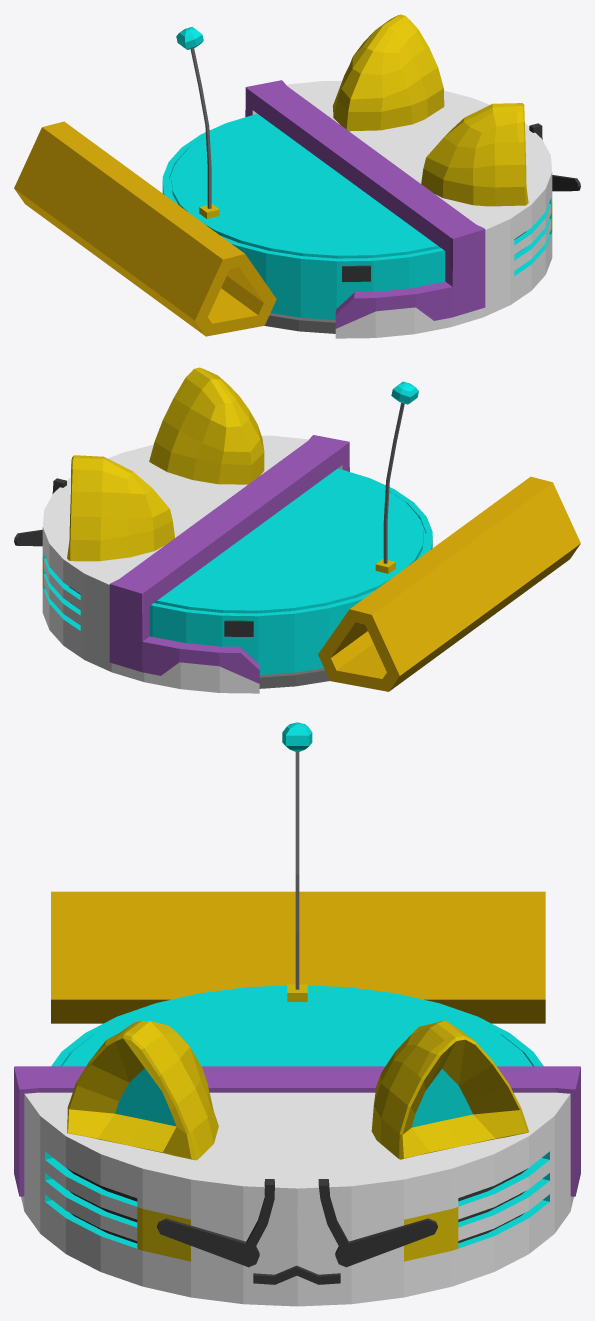
File: ratastrophic_MIAU_unit.fbx
3 views of the same model, one above another, from view 1: azimuth 30°, elevation 25°; view 2: azimuth 150°, elevation 25°; view 3: azimuth 270°, elevation 25° (orthographic). The views are drawn at different scales.
Visible parts, largest first — view 1: Base, Cartel, OrejaIzq, OrejaDer, Antena, OjoDer, BotonDer; view 2: Base, Cartel, OrejaDer, OrejaIzq, Antena, OjoIzq, BotonIzq; view 3: Base, Cartel, OrejaDer, OrejaIzq, OjoIzq, OjoDer, Antena, Boca.
Boxes of the visible parts, left/top/right/bottom form: Base: left=162, top=80, right=552, bottom=338; Cartel: left=14, top=121, right=276, bottom=336; OrejaIzq: left=332, top=14, right=444, bottom=131; OrejaDer: left=421, top=103, right=528, bottom=206; Antena: left=176, top=27, right=219, bottom=218; OjoDer: left=529, top=123, right=580, bottom=191; BotonDer: left=342, top=265, right=370, bottom=281; Base: left=42, top=435, right=432, bottom=693; Cartel: left=318, top=476, right=580, bottom=691; OrejaDer: left=149, top=367, right=264, bottom=484; OrejaIzq: left=67, top=455, right=174, bottom=561; Antena: left=375, top=381, right=418, bottom=573; OjoIzq: left=14, top=478, right=66, bottom=546; BotonIzq: left=224, top=620, right=253, bottom=636; Base: left=14, top=985, right=580, bottom=1306; Cartel: left=51, top=891, right=545, bottom=1023; OrejaDer: left=67, top=1021, right=218, bottom=1160; OrejaIzq: left=371, top=1020, right=528, bottom=1159; OjoIzq: left=318, top=1179, right=437, bottom=1267; OjoDer: left=157, top=1179, right=274, bottom=1267; Antena: left=282, top=722, right=312, bottom=1001; Boca: left=253, top=1265, right=340, bottom=1284.
Size of the model in its own units: 241 by 142 by 204.
